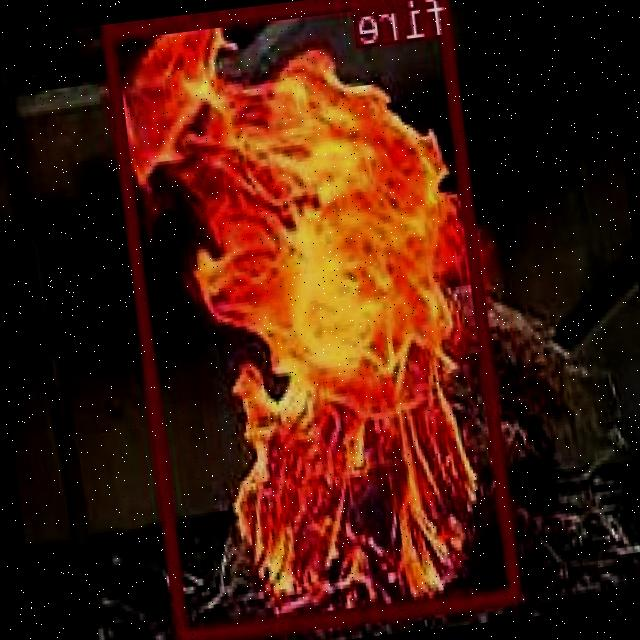fire: (103, 0, 524, 639)
